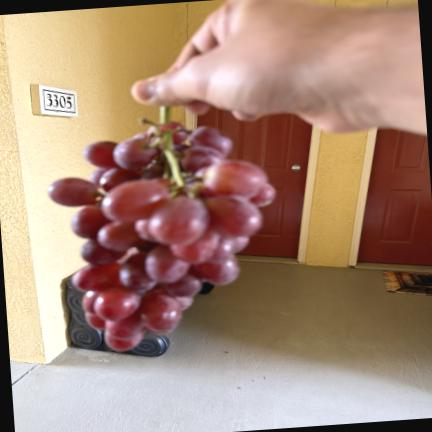grape_cluster: (47, 106, 274, 351)
